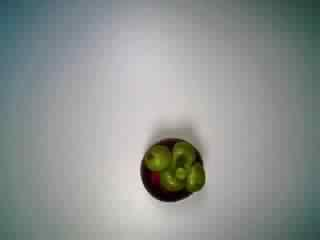mangosteen: (135, 131, 209, 203)
